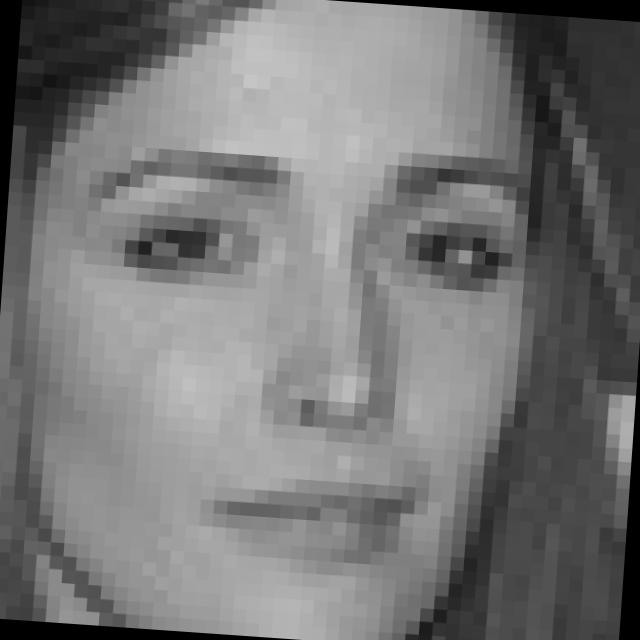neutral: (60, 125, 533, 592)
